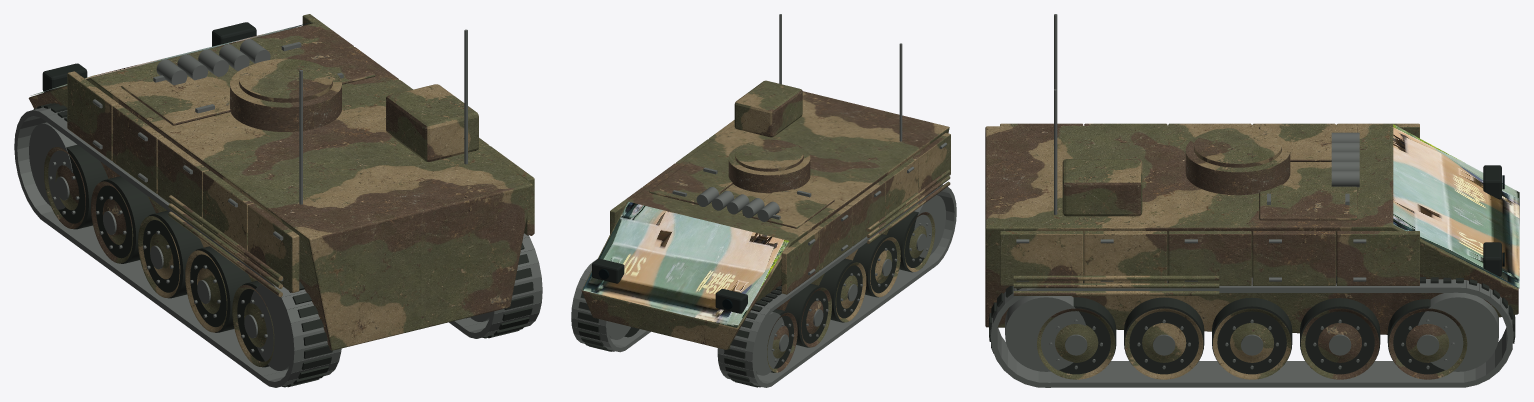
The picture shows the model from 3 angles, left to right: view 1: azimuth 30°, elevation 25°; view 2: azimuth 150°, elevation 25°; view 3: azimuth 270°, elevation 25°; orthographic projection. The views are drawn at different scales.
Parts seen in each view (by area): view 1: Hull_Authored Korean camouflage, Track_-1_Exposed steel, Track_-1_Rubber, Track_-1_Authored Korean camouflage, Hull_Exposed steel, Track_1_Exposed steel, Hull_Recess, Track_1_Rubber, Hull_K216 photo glacis photo material; view 2: Hull_Authored Korean camouflage, Hull_K216 photo glacis photo material, Track_-1_Exposed steel, Track_-1_Rubber, Track_-1_Authored Korean camouflage, Hull_Exposed steel, Track_1_Exposed steel, Hull_Recess, Track_1_Rubber; view 3: Hull_Authored Korean camouflage, Track_1_Exposed steel, Track_1_Rubber, Hull_K216 photo glacis photo material, Track_1_Authored Korean camouflage, Hull_Exposed steel, Hull_Recess.
Boxes of the visible parts, x1,y1,x2,y2 form: Hull_Authored Korean camouflage: (28,14,534,350); Track_-1_Exposed steel: (14,107,341,387); Track_-1_Rubber: (33,103,332,387); Track_-1_Authored Korean camouflage: (44,147,274,366); Hull_Exposed steel: (92,29,467,281); Track_1_Exposed steel: (449,233,542,338); Hull_Recess: (42,22,256,92); Track_1_Rubber: (466,243,533,338); Hull_K216 photo glacis photo material: (31,22,310,95); Hull_Authored Korean camouflage: (581,80,950,349); Hull_K216 photo glacis photo material: (582,201,788,327); Track_-1_Exposed steel: (717,185,956,387); Track_-1_Rubber: (724,184,942,387); Track_-1_Authored Korean camouflage: (767,212,935,372); Hull_Exposed steel: (672,14,947,275); Track_1_Exposed steel: (571,259,650,352); Hull_Recess: (592,258,747,313); Track_1_Rubber: (577,292,639,351); Hull_Authored Korean camouflage: (985,123,1518,334); Track_1_Exposed steel: (990,277,1513,387); Track_1_Rubber: (989,276,1515,374); Hull_K216 photo glacis photo material: (1393,124,1519,288); Track_1_Authored Korean camouflage: (1037,308,1467,379); Hull_Exposed steel: (1016,14,1366,281); Hull_Recess: (1483,165,1501,276).
Bounding box in the file's own units: 2.94 × 3.31 × 5.71.
Materials: 6 (3 with a texture image).
